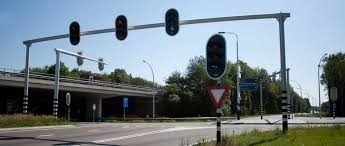pole: (275, 14, 289, 132), (53, 48, 62, 118), (23, 42, 31, 113), (216, 108, 220, 143)
vegetation: (225, 126, 344, 145), (0, 114, 69, 127)
